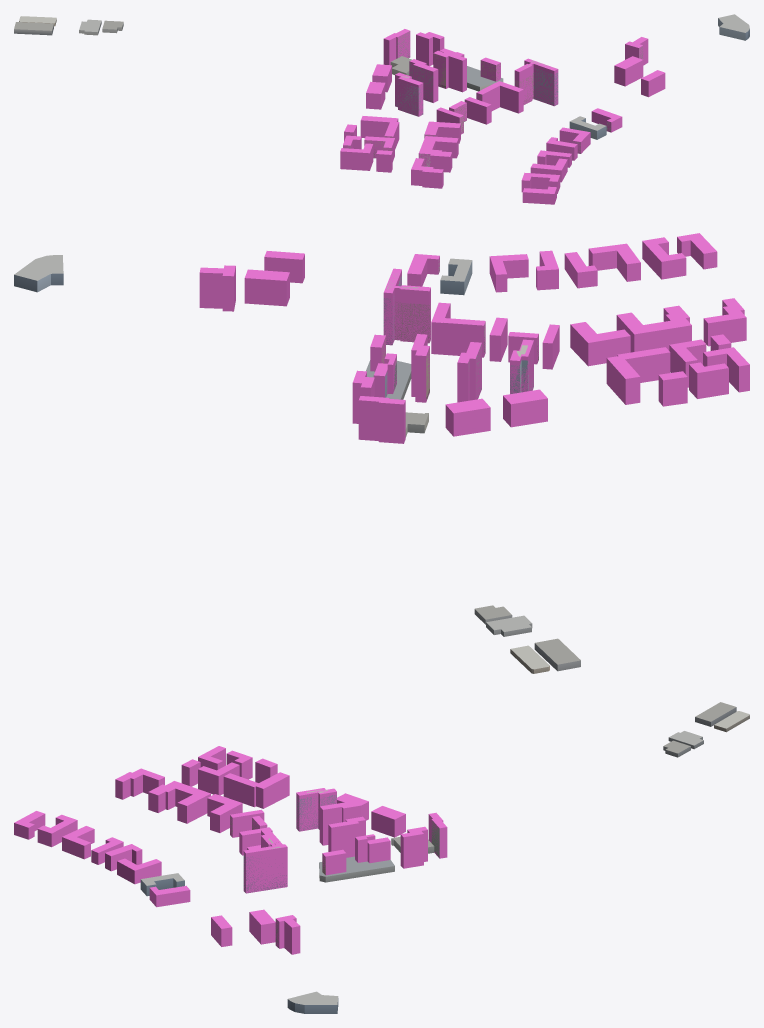
The model's file is bld_11_4.fbx.
3 views of the same model, one above another, from view 1: azimuth 30°, elevation 25°; view 2: azimuth 150°, elevation 25°; view 3: azimuth 270°, elevation 25° (orthographic). The views are drawn at different scales.
Parts seen in each view (by area): view 1: bld_11_4_COL, bld_11_4_LOD0; view 2: bld_11_4_COL, bld_11_4_LOD0; view 3: bld_11_4_COL, bld_11_4_LOD0.
Boxes of the visible parts, x1=… form: bld_11_4_COL: x1=340, y1=29, x2=665, y2=204; bld_11_4_LOD0: x1=14, y1=14, x2=749, y2=166; bld_11_4_COL: x1=199, y1=233, x2=749, y2=443; bld_11_4_LOD0: x1=14, y1=255, x2=580, y2=673; bld_11_4_COL: x1=14, y1=746, x2=447, y2=954; bld_11_4_LOD0: x1=140, y1=702, x2=749, y2=1013.
Size of what is drawn, in the model's own units: 1468 by 89.74 by 1488.
